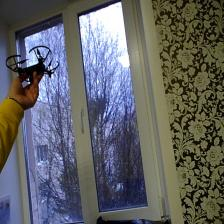drone: (5, 42, 61, 84)
